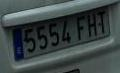4: (61, 19, 72, 45)
5: (48, 22, 60, 47), (24, 28, 36, 53), (36, 25, 48, 49)
F: (76, 14, 86, 41)
H: (86, 12, 98, 37)
T: (97, 8, 107, 34)
